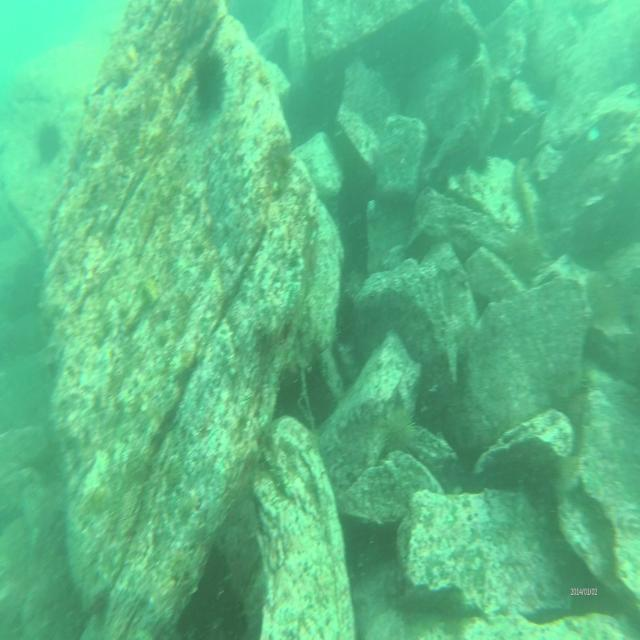echinus: (195, 41, 227, 121), (386, 403, 420, 455), (508, 228, 535, 282), (34, 118, 64, 166)
